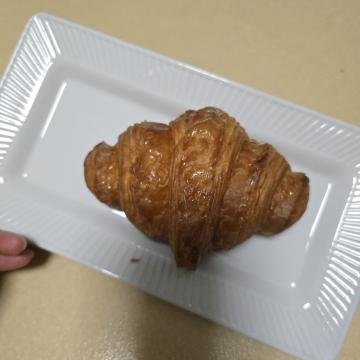croissant: (103, 46, 282, 290)
